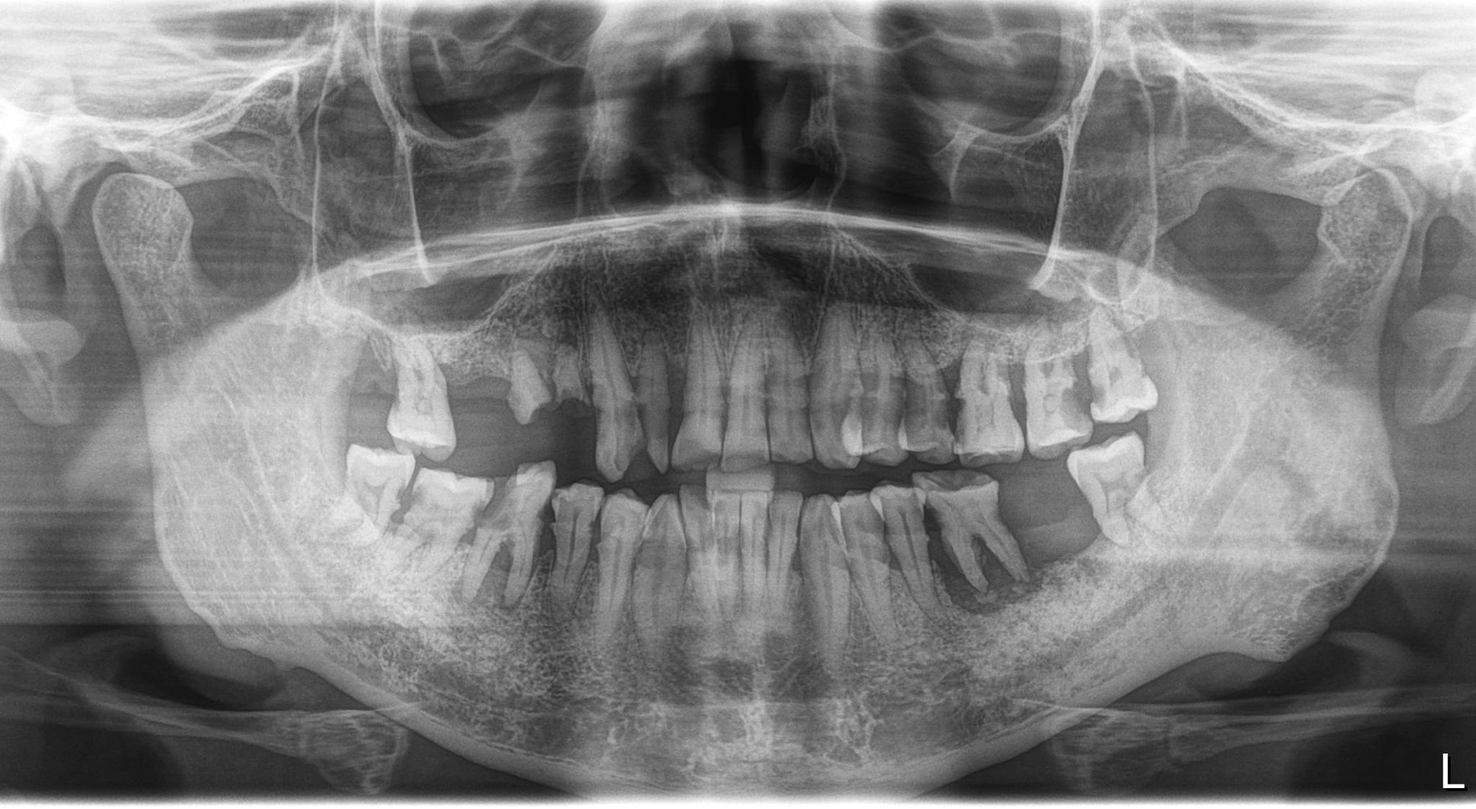Dental Caries: (912, 470, 997, 506), (380, 479, 424, 529), (458, 526, 488, 556)
Impacted Third Molar: (1063, 441, 1157, 531), (348, 445, 409, 540)
Missing Tooth: (1011, 468, 1083, 580), (443, 349, 504, 432), (357, 346, 393, 445)
Periapical Abnormality: (897, 522, 1026, 611), (663, 326, 694, 432)
Retained Root: (508, 346, 592, 444)
